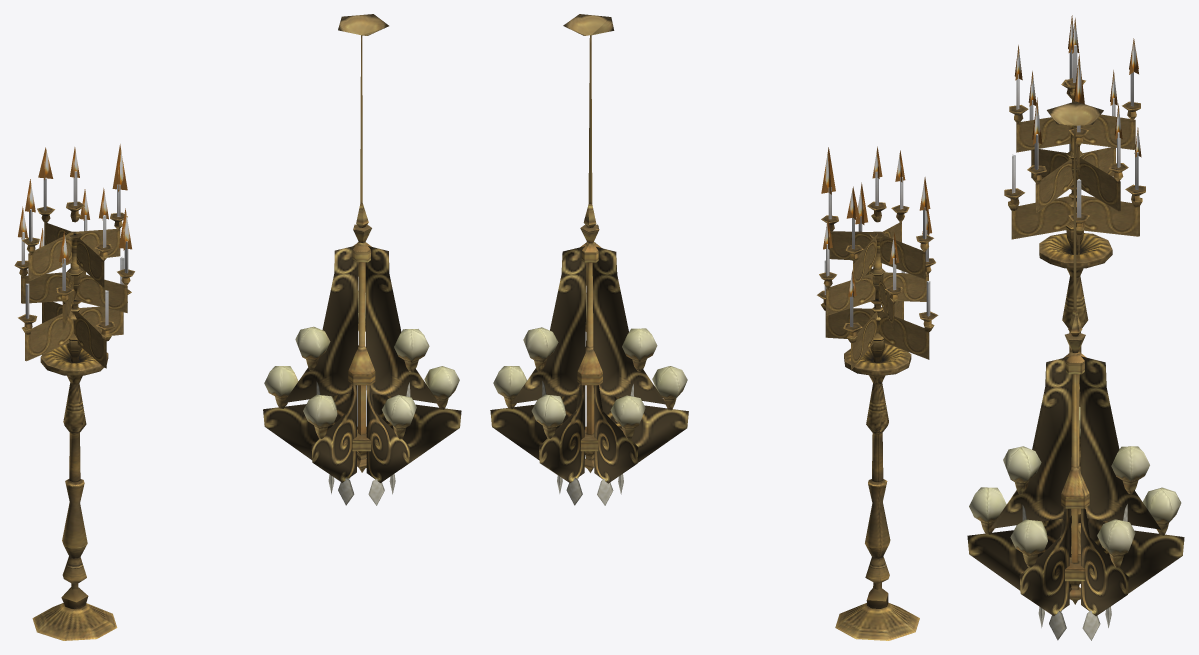
The model's file is d_0001_light02.FBX.
3 views of the same model, side by side, from view 1: azimuth 30°, elevation 25°; view 2: azimuth 150°, elevation 25°; view 3: azimuth 270°, elevation 25° (orthographic). The views are drawn at different scales.
Parts seen in each view (by area): view 1: w_1009_railing15924, w_1009_railing15733, d_1009_deco07m1222; view 2: w_1009_railing15924, w_1009_railing15733, d_1009_deco07m1222; view 3: w_1009_railing15924, w_1009_railing15733, d_1009_deco07m1222.
Boxes of the visible parts, x1,y1,x2,y2 form: w_1009_railing15924: [263, 14, 461, 505]; w_1009_railing15733: [14, 171, 134, 640]; d_1009_deco07m1222: [18, 144, 131, 263]; w_1009_railing15924: [490, 14, 688, 505]; w_1009_railing15733: [817, 171, 938, 640]; d_1009_deco07m1222: [821, 146, 931, 297]; w_1009_railing15924: [967, 101, 1184, 640]; w_1009_railing15733: [1004, 45, 1145, 553]; d_1009_deco07m1222: [1014, 15, 1141, 157].
Bounding box in the file's own units: 458 × 552 × 188.
